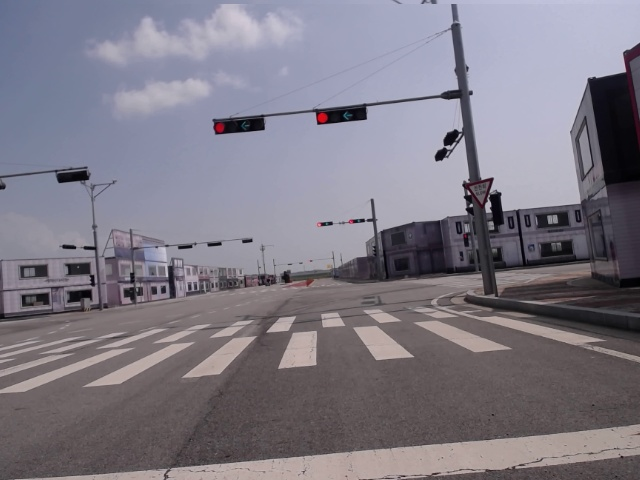left_green_4: (317, 108, 366, 125), (213, 119, 265, 134)
